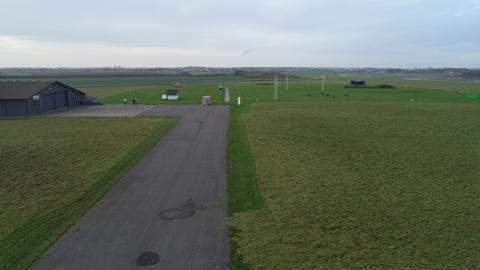RockwoolPallet: (204, 96, 210, 106)
